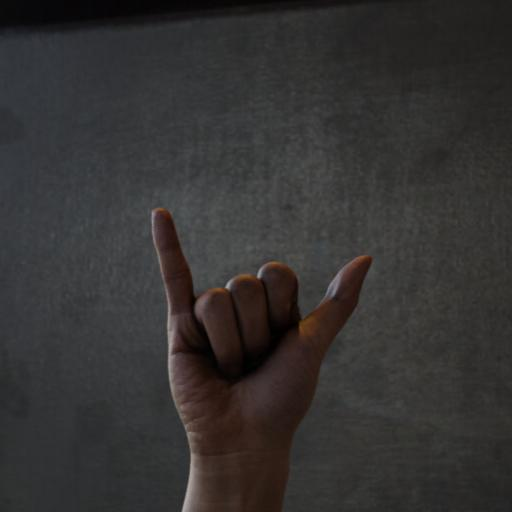Y: (119, 167, 407, 512)
